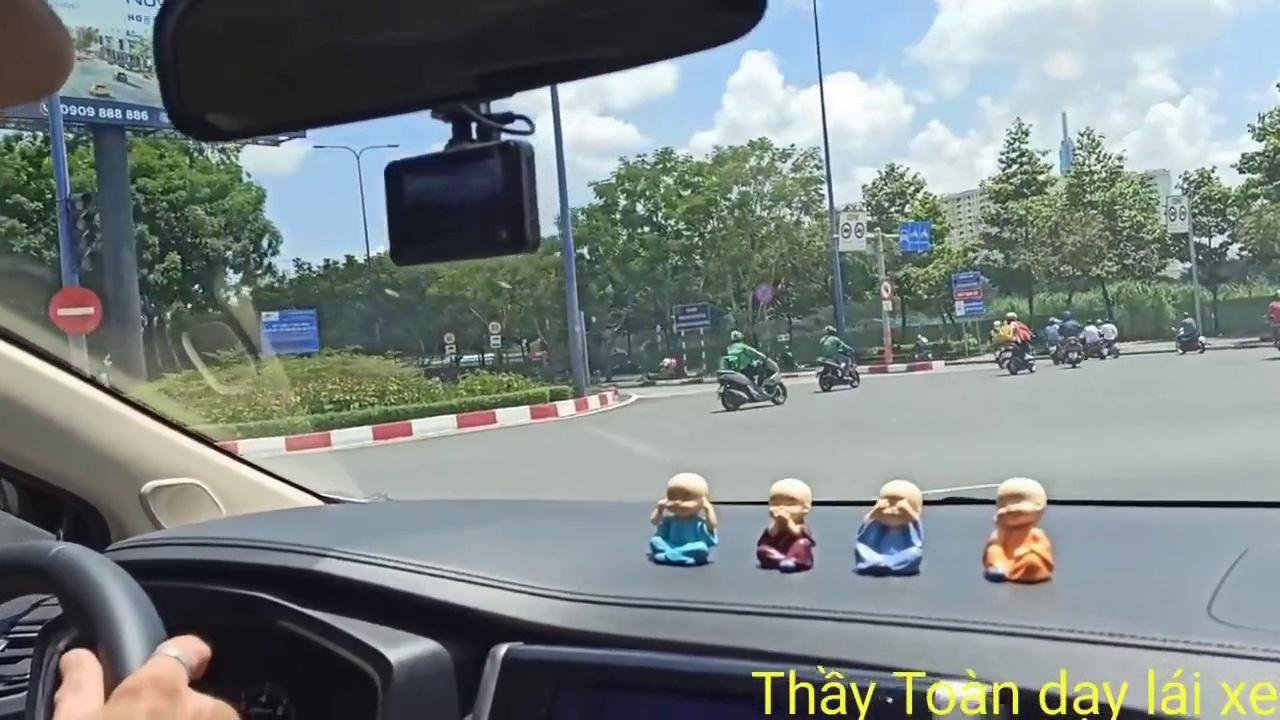Cấm cac phương tiện hoạt động trong khung giờ cố định: (836, 210, 868, 252)
Cấm dừng - Cấm đỗ: (754, 281, 774, 303)
Cấm xe máy: (877, 277, 894, 302)
Cấm đi ngược chiều: (48, 283, 105, 338)
Khác: (258, 306, 320, 356), (946, 271, 988, 318)
Làn đường cho từng xe: (898, 219, 934, 252)
